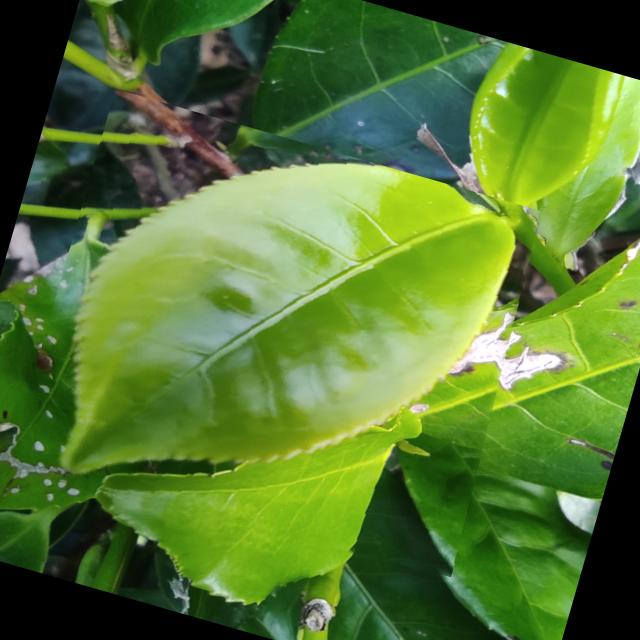Category B(2-4 days): (7, 88, 554, 592)
